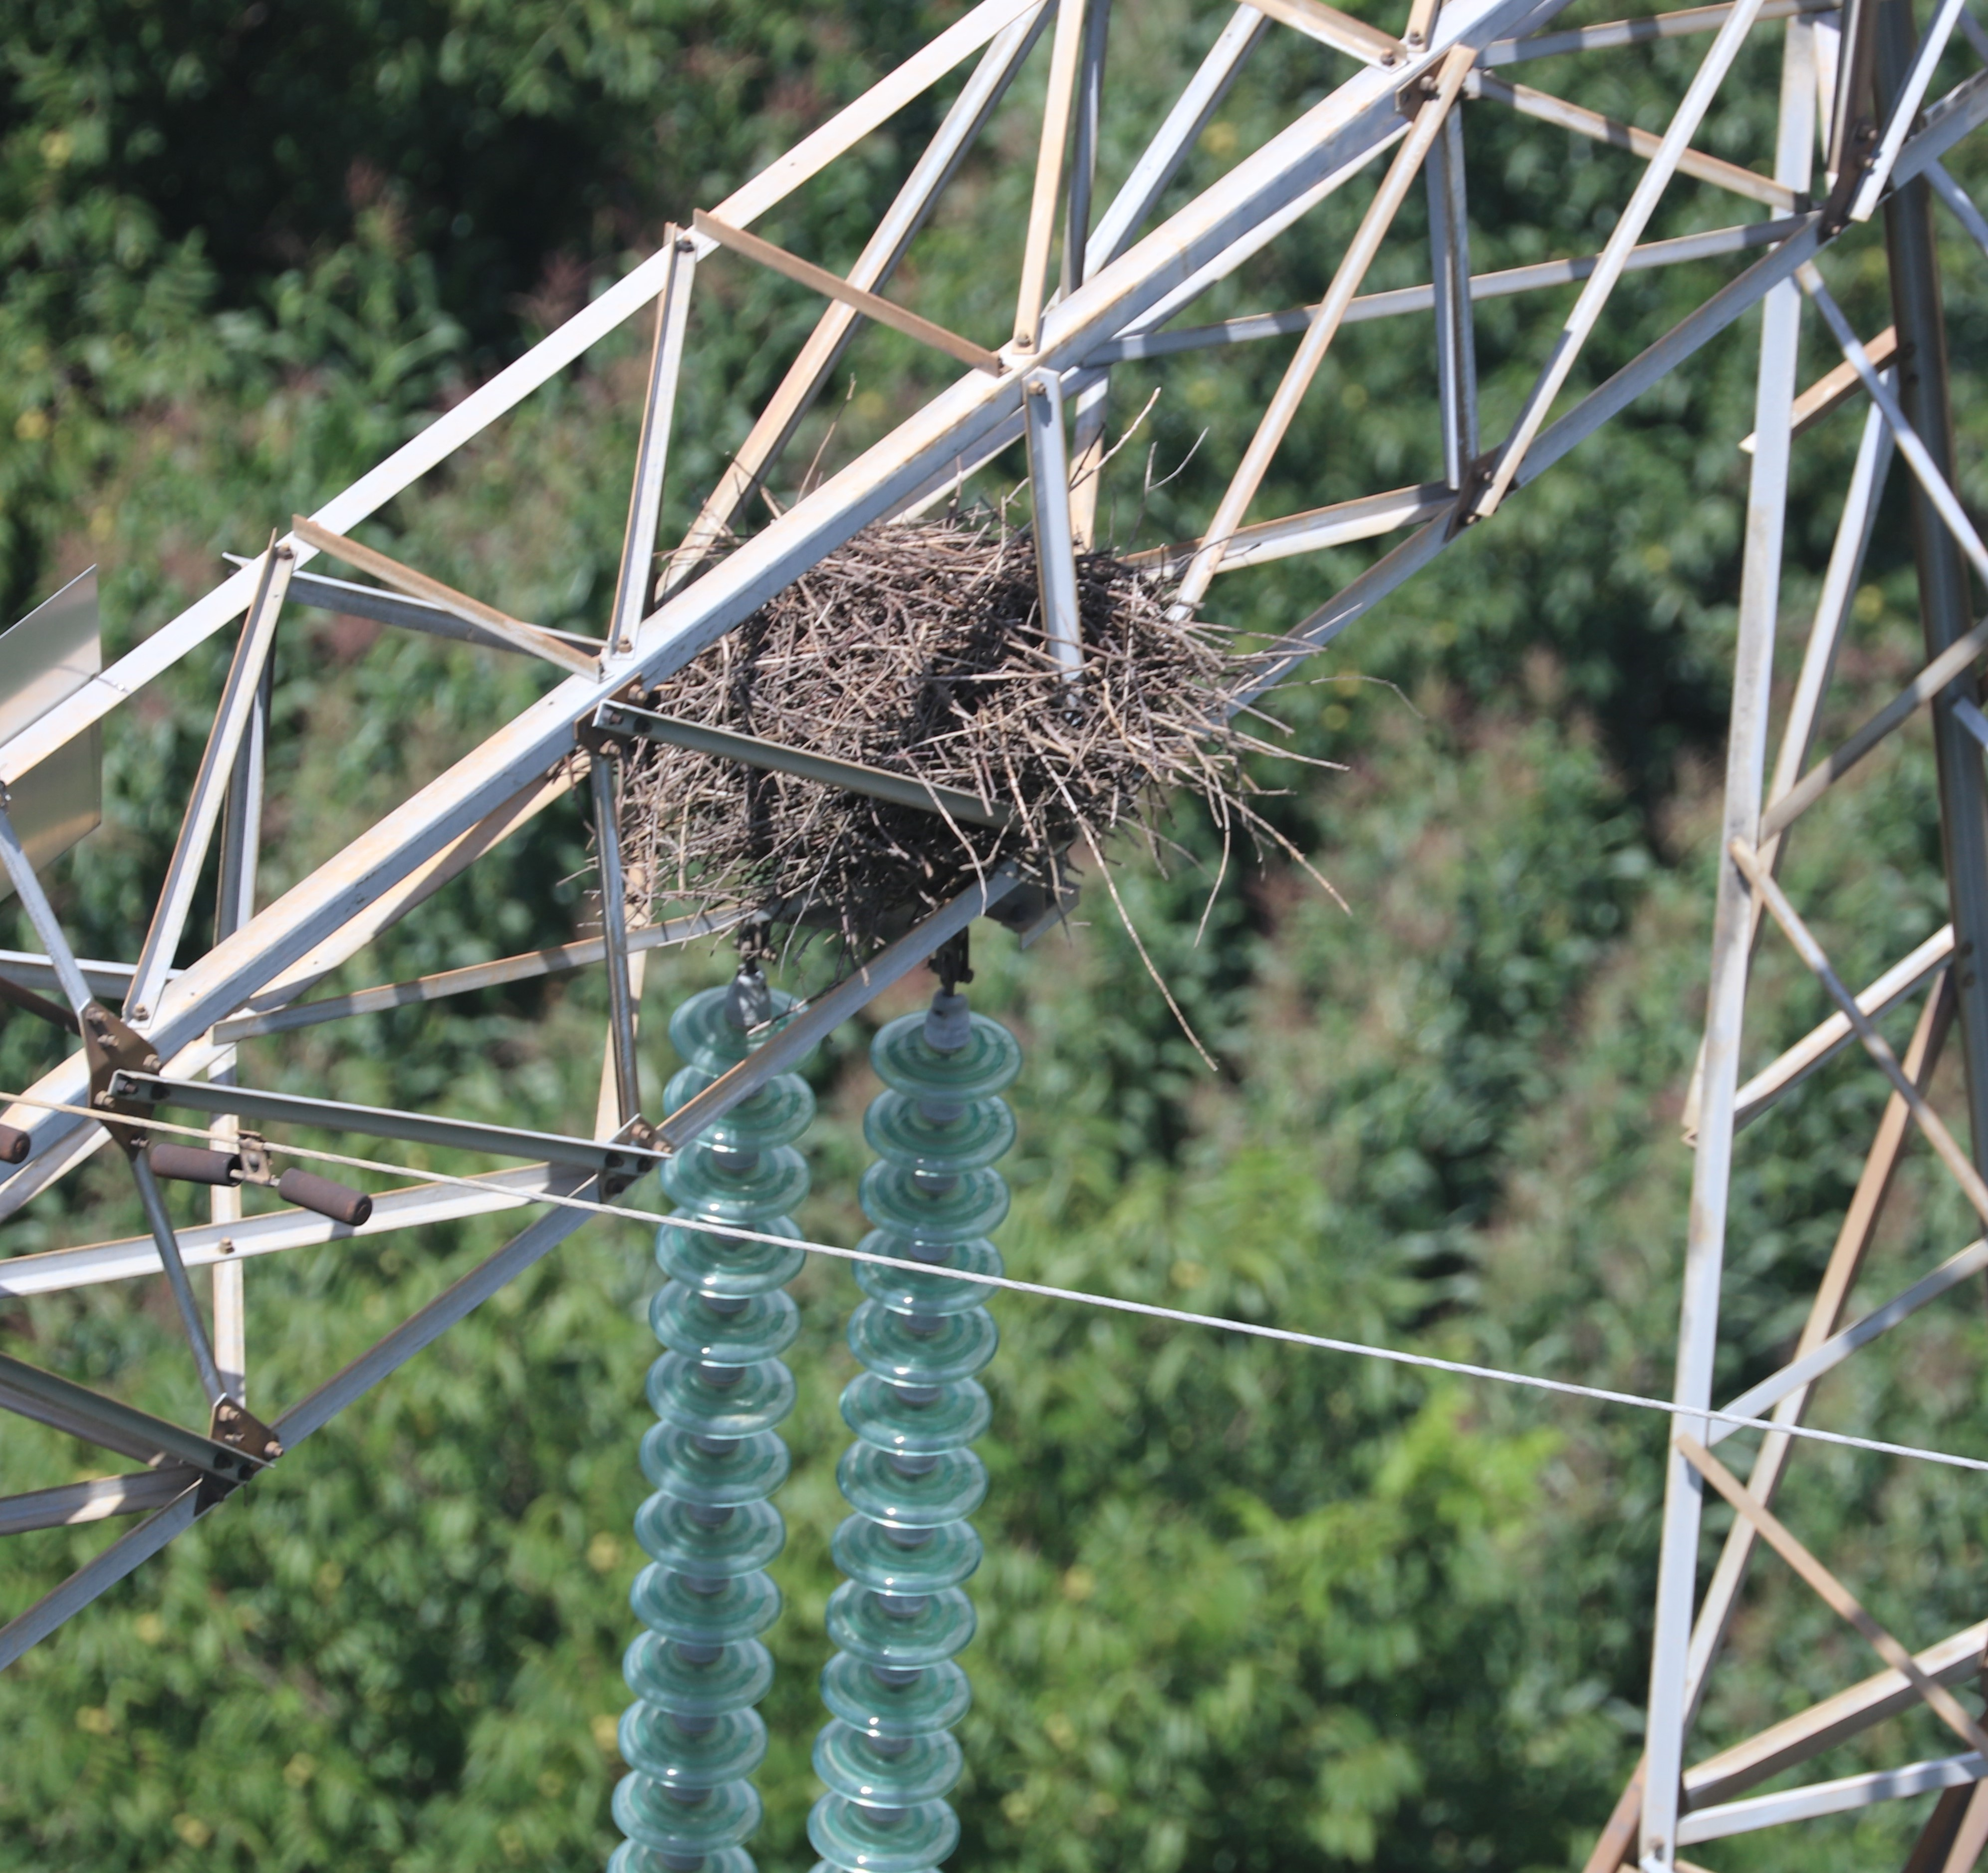niaowo: (606, 496, 1255, 993)
